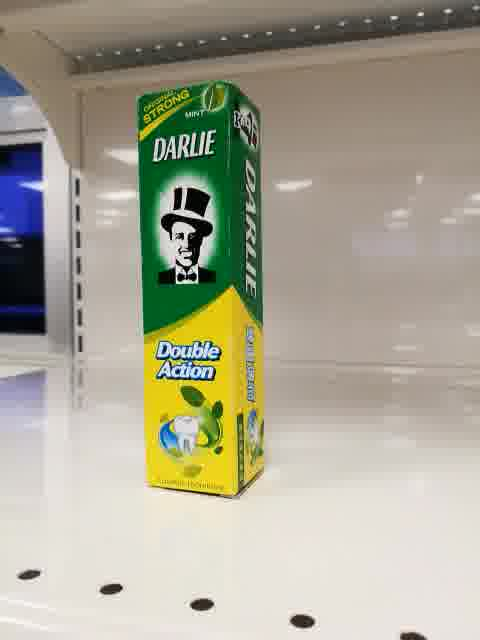toothpaste: (137, 81, 265, 499)
